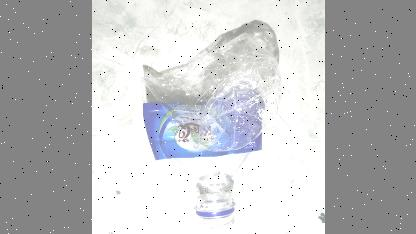Plastic Bottle: (139, 30, 281, 234)
